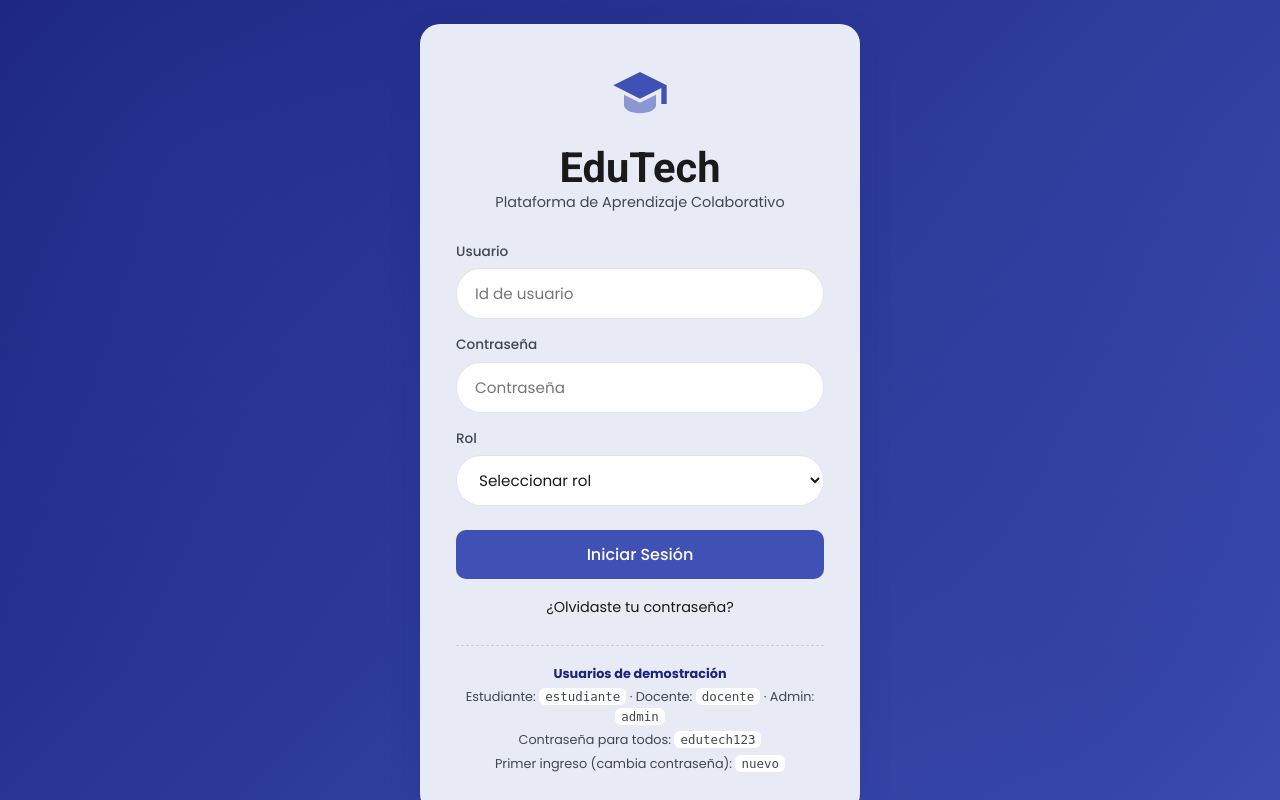
Test: Login — integración › valida campos vacíos (Escenario 3)
The image size is (1280, 800).
Click the button "Iniciar Sesión": {"x": 640, "y": 555} 456,530 -> 824,579
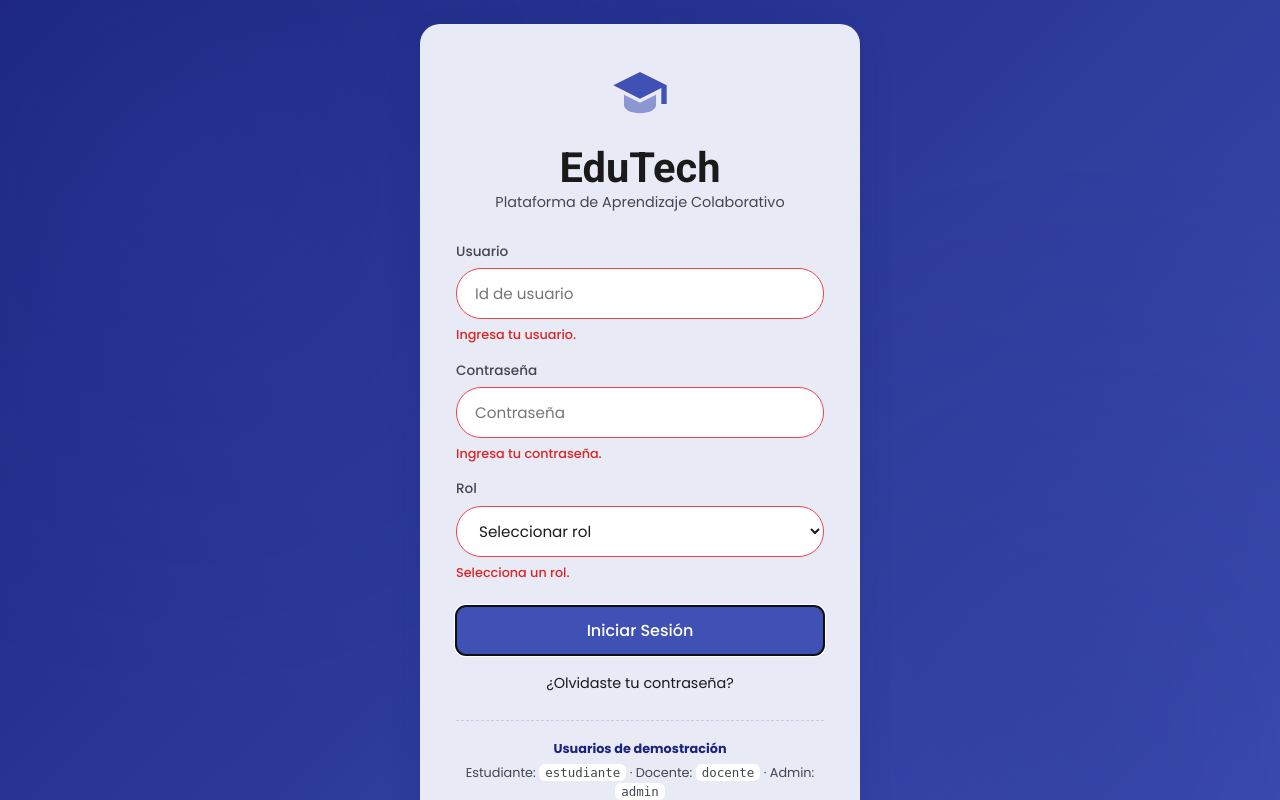
Check: the text "Ingresa tu usuario." is shown, box 456,326 -> 576,343
Check: the text "Ingresa tu contraseña." is shown, box 456,445 -> 602,462
Check: the text "Selecciona un rol." is shown, box 456,564 -> 570,581
